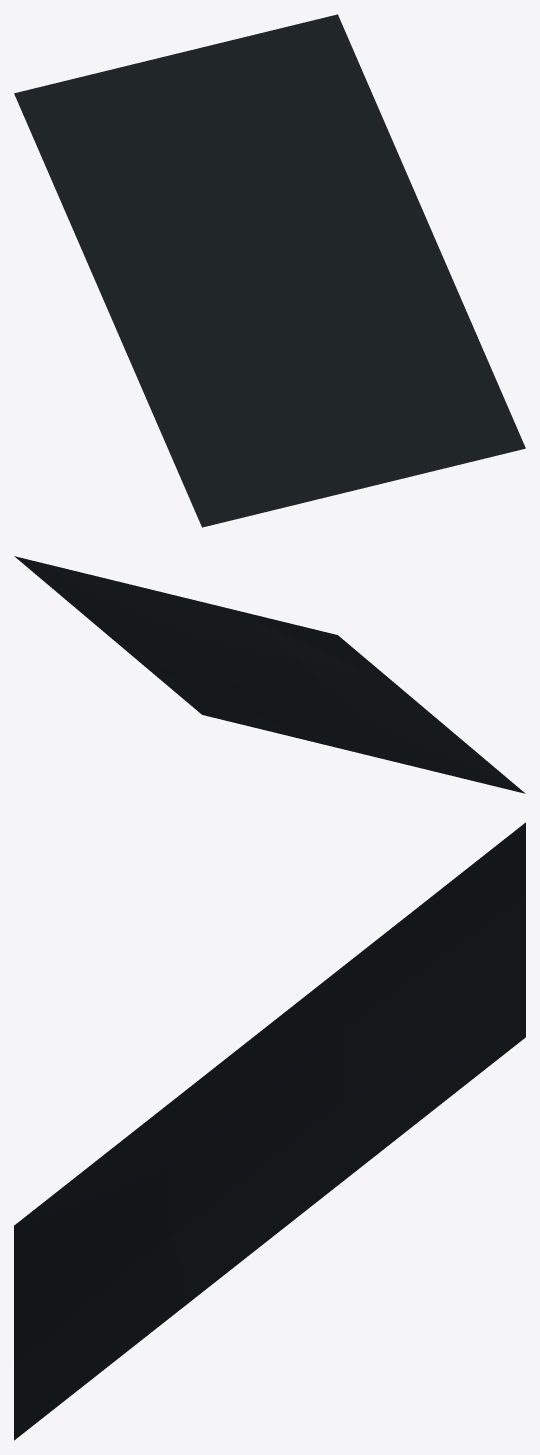
The model's file is ms_pacman_screen.obj.
3 views of the same model, one above another, from view 1: azimuth 30°, elevation 25°; view 2: azimuth 150°, elevation 25°; view 3: azimuth 270°, elevation 25° (orthographic). The views are drawn at different scales.
Visible parts, largest first — view 1: CRT_screen; view 2: CRT_screen; view 3: CRT_screen.
Boxes of the visible parts, left/top/right/bottom form: CRT_screen: left=14, top=14, right=525, bottom=527; CRT_screen: left=14, top=556, right=525, bottom=793; CRT_screen: left=14, top=822, right=525, bottom=1440.
Size of the model in its own units: 0.34 by 0.2975 by 0.3421.
Materials: 1 (1 with a texture image).
